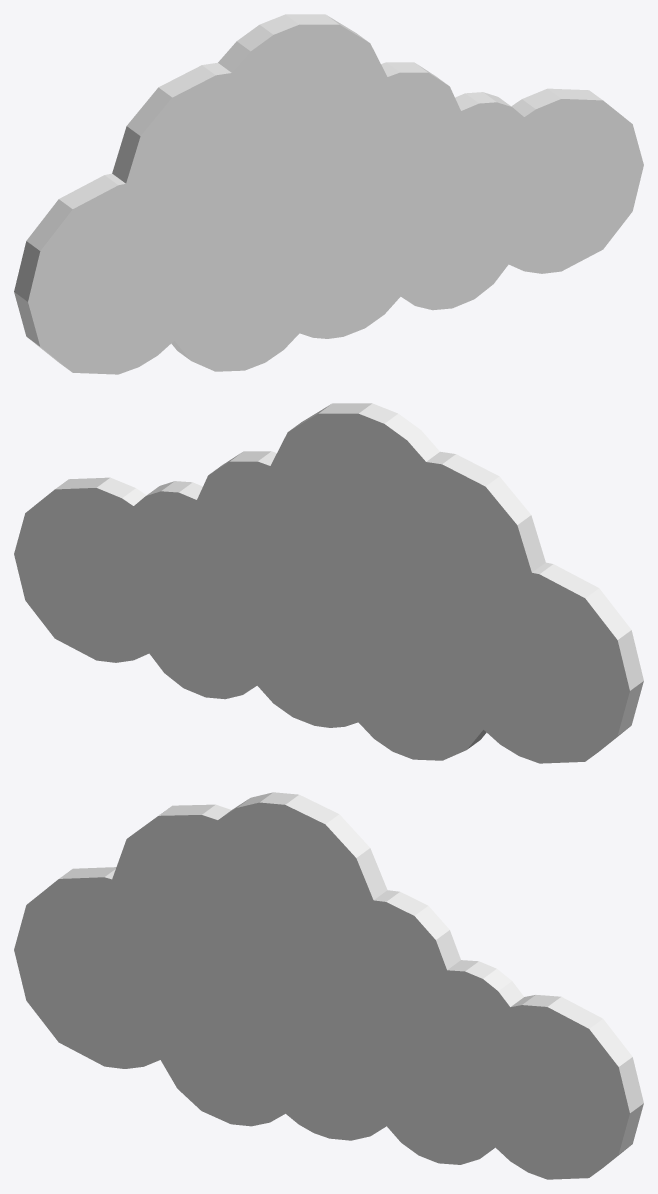
The model's file is cartoon_cloud_4.fbx.
The picture shows the model from 3 angles, top to bottom: view 1: azimuth 30°, elevation 25°; view 2: azimuth 150°, elevation 25°; view 3: azimuth 330°, elevation 25°; orthographic projection.
Parts seen in each view (by area): view 1: cloud_74; view 2: cloud_74; view 3: cloud_74.
Part boxes in pixels (x1,y1,x2,y2): cloud_74: [14, 14, 643, 374]; cloud_74: [14, 403, 643, 763]; cloud_74: [14, 792, 643, 1179].
Size of the model in its own units: 508 by 262 by 20.
